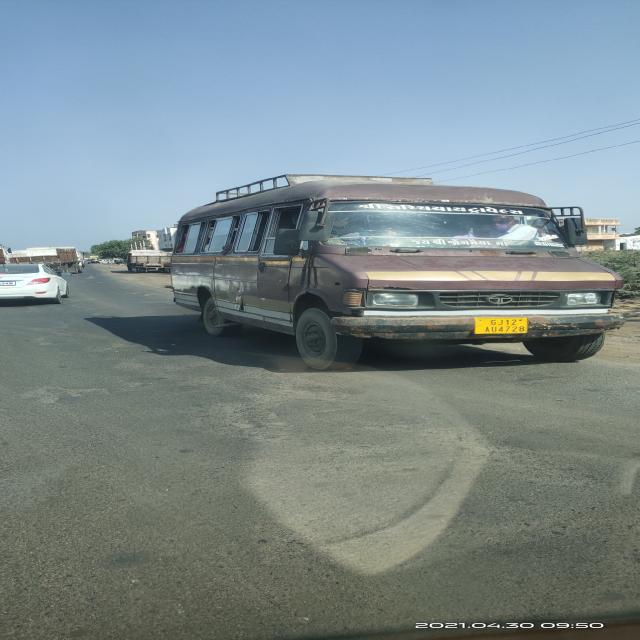Car: (0, 264, 67, 304)
Traveller: (170, 175, 622, 370)
